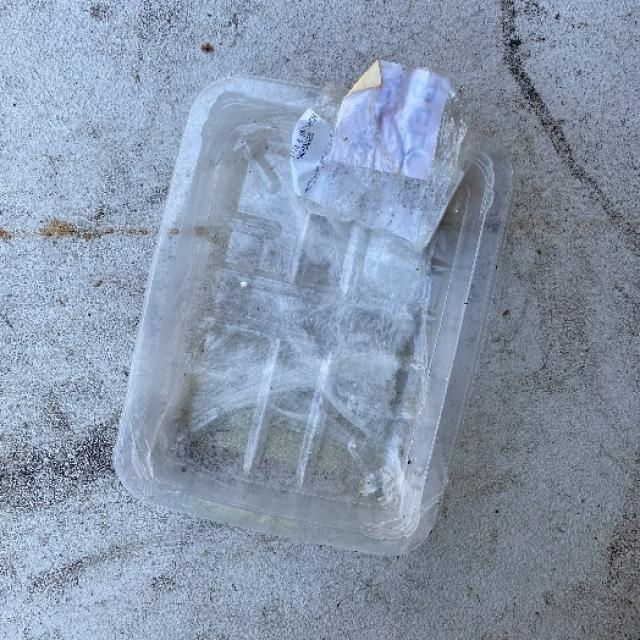inorganic: (116, 57, 509, 570)
